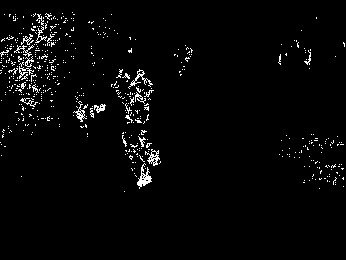person: (112, 119, 169, 197), (132, 68, 165, 119), (112, 66, 133, 125)
